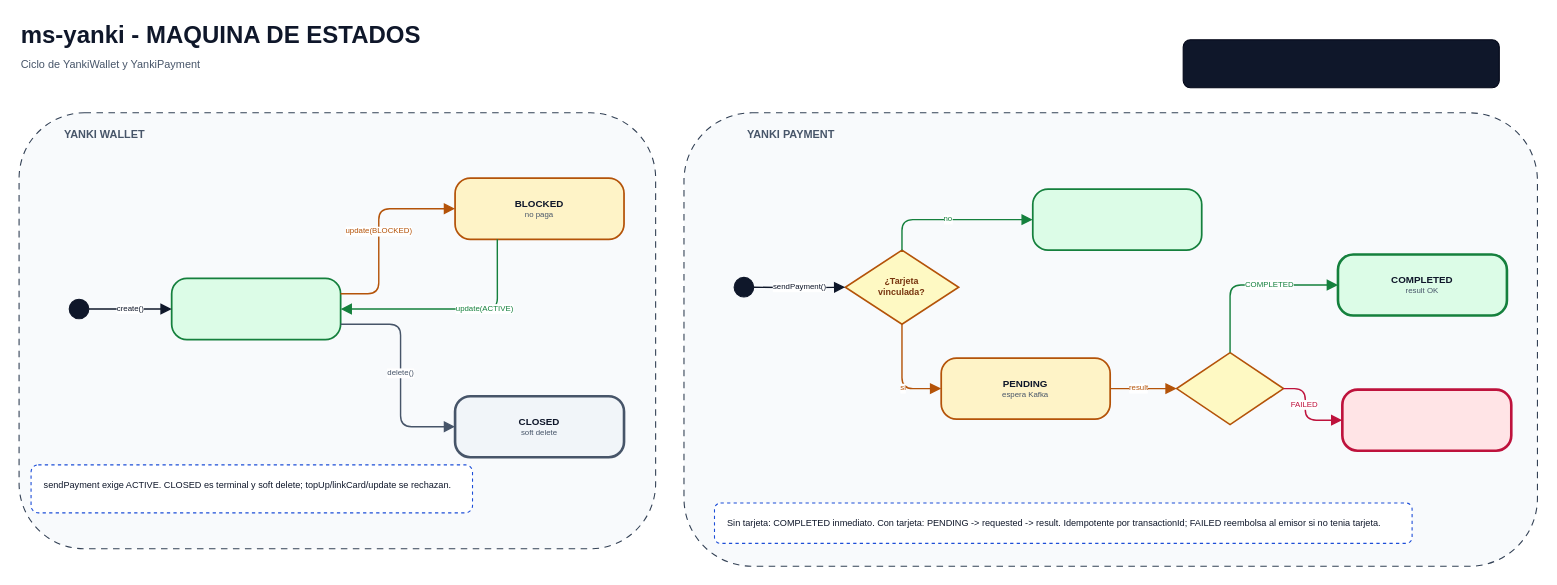
Some shapes in this 1557 by 585 pixel diagram are drawn without their labels. Each missing label, with the centre of its shape:
"ACTIVE opera y paga" belongs at point (255, 308).
"COMPLETED inmediato" belongs at point (1116, 219).
"FAILED refund emisor" belongs at point (1426, 419).
"FASE III - PROYECTO FINAL Estados - UML 2.5" belongs at point (1340, 63).
"¿Resultado Kafka?" belongs at point (1229, 388).
